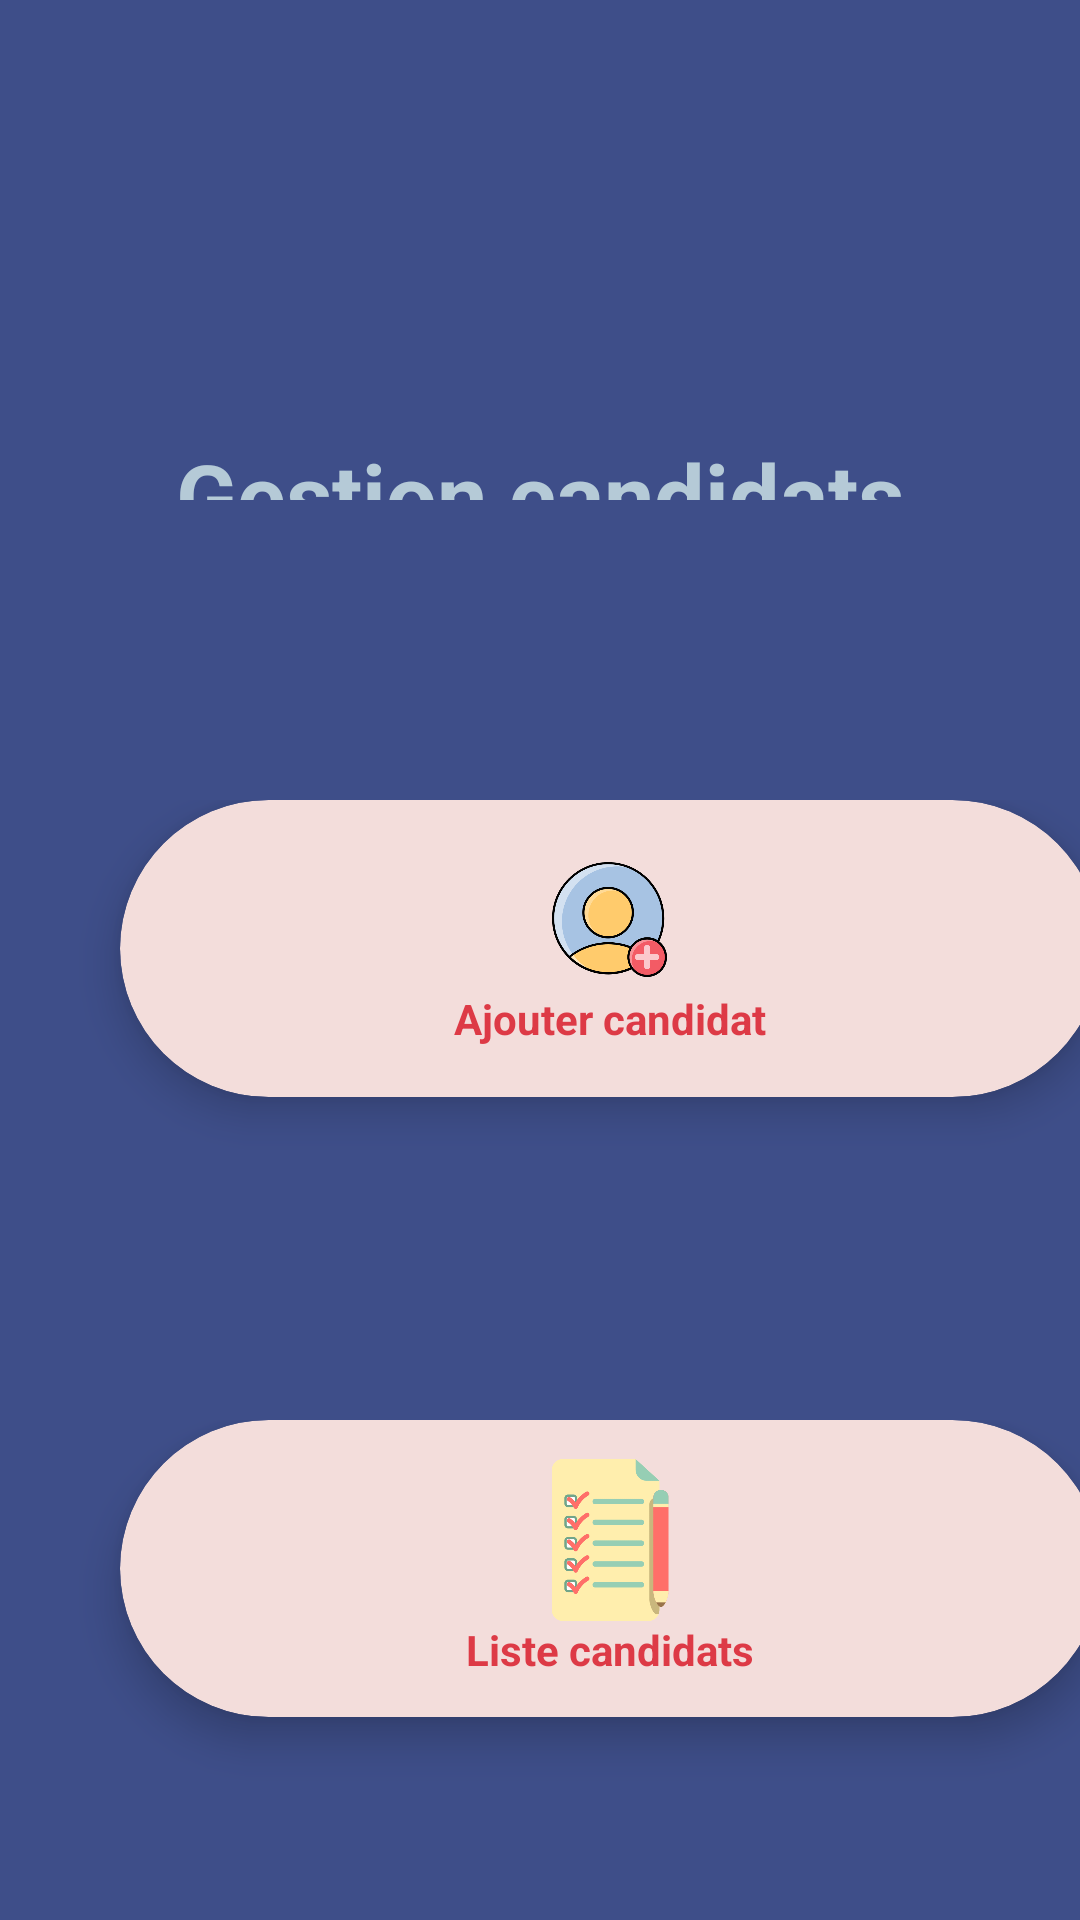

Icon click points for this 1080 × 1920 phone screenshot, format point (x, y):
verifier: point (610, 1540)
